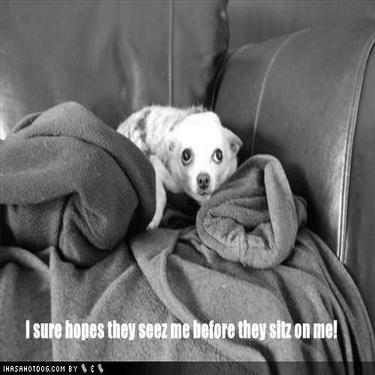dog: (92, 91, 258, 245)
